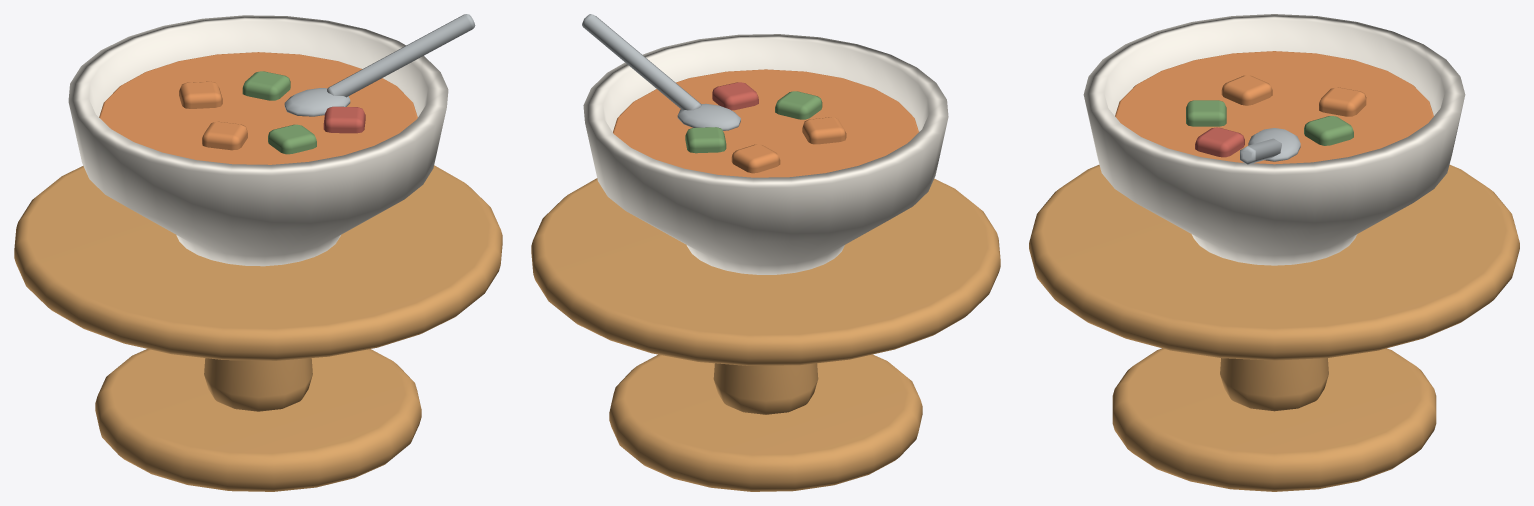
Rendered from dish_veg_soup.glb.
The picture shows the model from 3 angles, left to right: view 1: azimuth 30°, elevation 25°; view 2: azimuth 150°, elevation 25°; view 3: azimuth 270°, elevation 25°; orthographic projection. The views are drawn at different scales.
Parts seen in each view (by area): view 1: dish_veg_soup_mesh; view 2: dish_veg_soup_mesh; view 3: dish_veg_soup_mesh.
Part boxes in pixels (bbox=[...]): dish_veg_soup_mesh: bbox=[14, 14, 502, 491]; dish_veg_soup_mesh: bbox=[531, 14, 1000, 491]; dish_veg_soup_mesh: bbox=[1029, 14, 1519, 491].
Size of the model in its own units: 0.36 by 0.3054 by 0.36.
